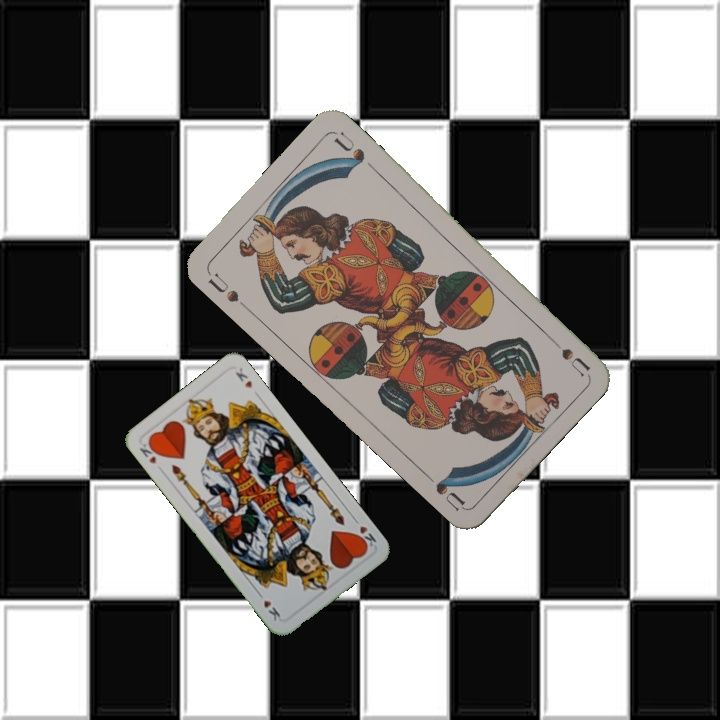HK: (352, 522, 379, 552), (135, 438, 162, 467)
SU: (542, 330, 593, 378), (204, 269, 242, 305)
